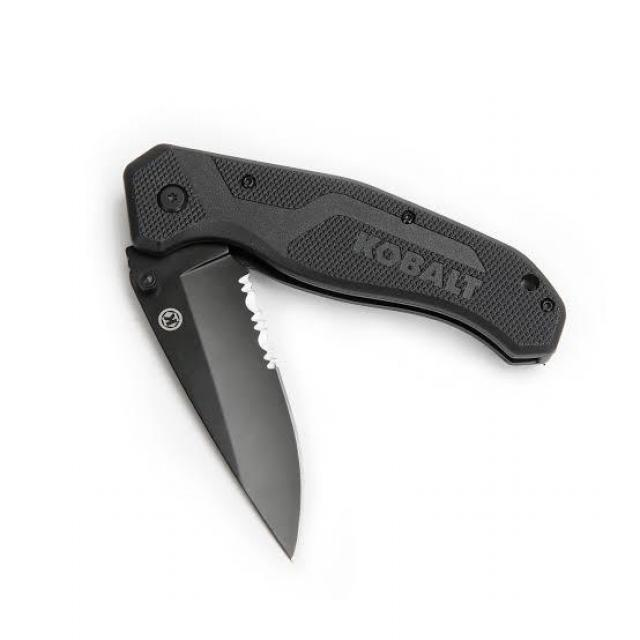knife: (127, 246, 300, 562)
